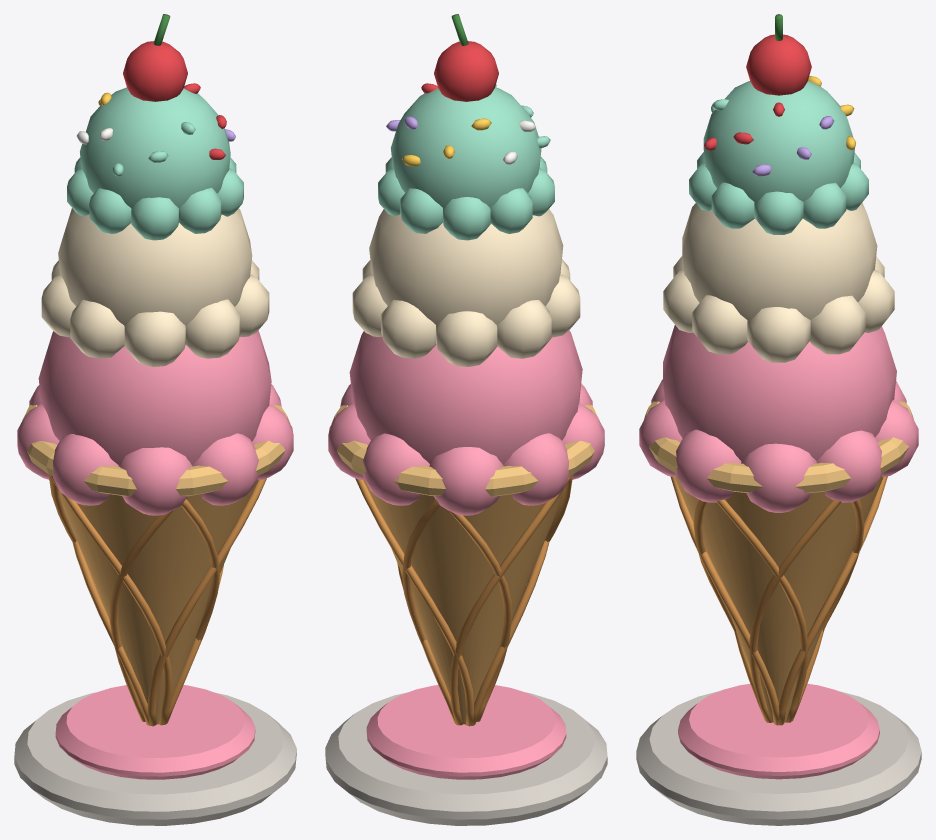
The model's file is cone_sign.fbx.
3 renders of one model, left to right at view 1: azimuth 30°, elevation 25°; view 2: azimuth 150°, elevation 25°; view 3: azimuth 270°, elevation 25°, orthographic.
Parts seen in each view (by area): view 1: cone_sign_Pink, cone_sign_Cream, cone_sign_Mint, cone_sign_Waffle, cone_sign_Stone, cone_sign_Crust, cone_sign_CrustLight, cone_sign_Red; view 2: cone_sign_Pink, cone_sign_Cream, cone_sign_Mint, cone_sign_Waffle, cone_sign_Stone, cone_sign_Crust, cone_sign_CrustLight, cone_sign_Red; view 3: cone_sign_Pink, cone_sign_Cream, cone_sign_Mint, cone_sign_Waffle, cone_sign_Stone, cone_sign_Crust, cone_sign_CrustLight, cone_sign_Red.
Part boxes in pixels (x1=…): cone_sign_Pink: x1=17, y1=330, x2=293, y2=779; cone_sign_Cream: x1=41, y1=208, x2=269, y2=366; cone_sign_Mint: x1=67, y1=87, x2=243, y2=240; cone_sign_Waffle: x1=58, y1=479, x2=258, y2=724; cone_sign_Stone: x1=14, y1=692, x2=296, y2=825; cone_sign_Crust: x1=49, y1=475, x2=266, y2=726; cone_sign_CrustLight: x1=22, y1=404, x2=290, y2=496; cone_sign_Red: x1=123, y1=41, x2=226, y2=159; cone_sign_Pink: x1=328, y1=330, x2=604, y2=779; cone_sign_Cream: x1=352, y1=209, x2=580, y2=366; cone_sign_Mint: x1=378, y1=84, x2=554, y2=240; cone_sign_Waffle: x1=363, y1=479, x2=563, y2=724; cone_sign_Stone: x1=325, y1=692, x2=607, y2=825; cone_sign_Crust: x1=355, y1=475, x2=572, y2=726; cone_sign_CrustLight: x1=331, y1=404, x2=599, y2=496; cone_sign_Red: x1=421, y1=41, x2=498, y2=101; cone_sign_Pink: x1=639, y1=325, x2=918, y2=779; cone_sign_Cream: x1=663, y1=203, x2=894, y2=362; cone_sign_Mint: x1=689, y1=81, x2=868, y2=234; cone_sign_Waffle: x1=674, y1=475, x2=883, y2=722; cone_sign_Stone: x1=636, y1=691, x2=921, y2=825; cone_sign_Crust: x1=670, y1=476, x2=887, y2=725; cone_sign_CrustLight: x1=644, y1=401, x2=913, y2=493; cone_sign_Red: x1=704, y1=34, x2=811, y2=150.
Size of the model in its own units: 13 by 38.26 by 13.
